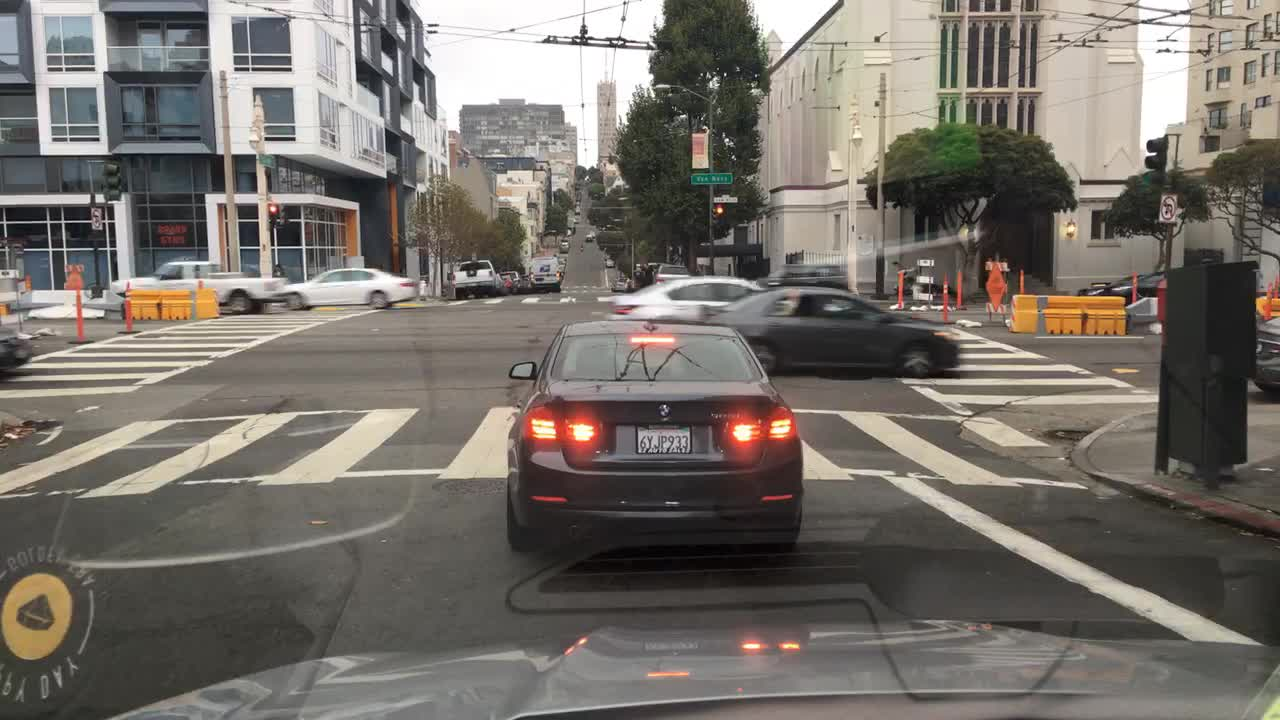car: (502, 315, 802, 557), (696, 285, 959, 375), (603, 272, 788, 320), (284, 265, 419, 309), (1077, 266, 1188, 297), (1252, 303, 1278, 401), (0, 321, 35, 376), (528, 252, 561, 291), (653, 260, 689, 280), (500, 269, 522, 291), (641, 260, 659, 285), (626, 263, 644, 286), (517, 271, 535, 291), (612, 275, 627, 292), (584, 228, 600, 243), (554, 257, 566, 277), (569, 200, 581, 216), (557, 236, 569, 252), (561, 223, 575, 236), (603, 254, 614, 268)
traffic light: (1140, 138, 1169, 182), (104, 161, 124, 199), (711, 200, 725, 226), (266, 200, 283, 217)
traffic sign: (982, 260, 1007, 312), (690, 131, 708, 167), (689, 170, 733, 182), (1160, 193, 1177, 222), (257, 150, 275, 167), (90, 206, 102, 229), (708, 193, 738, 202)
truck: (102, 258, 284, 317), (451, 257, 499, 301)
